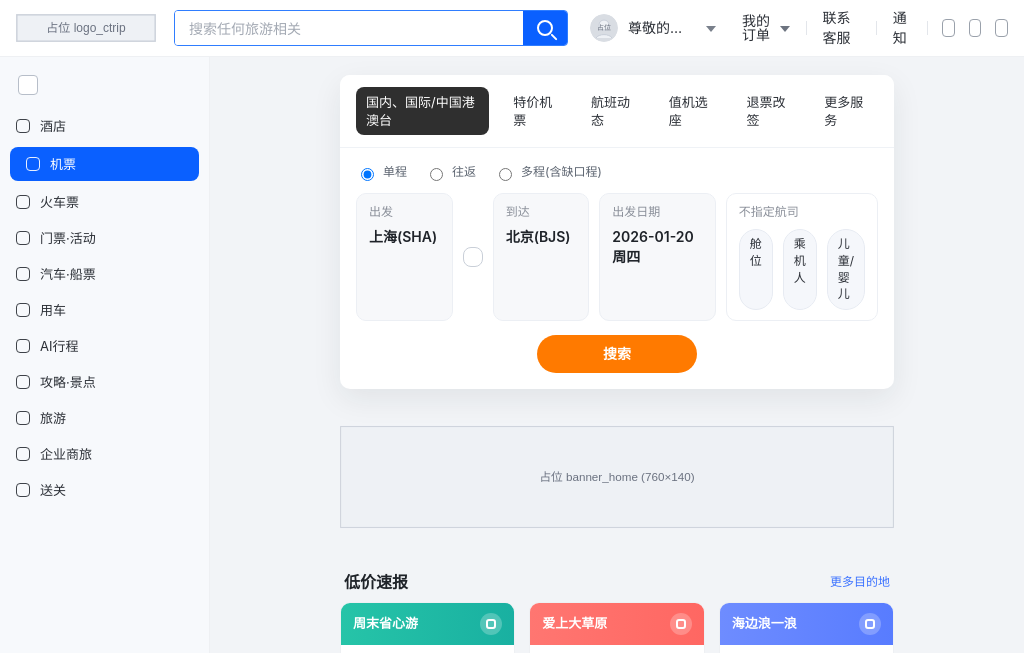
Scenario: 订单管理 - 场景用例 › 导航: 已登录时点击用户昵称/头像跳转到个人信息管理页
This screenshot has width=1024, height=653.
Click the link "测试用户" at (653, 28), box [584,12,722,44]
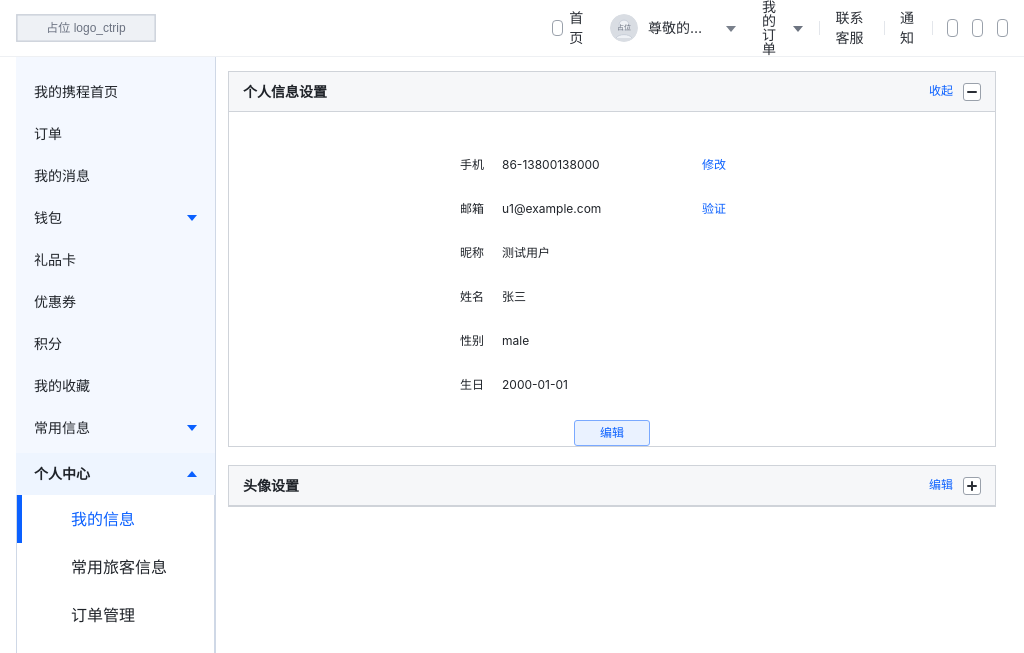
Expected: the text "个人信息设置" is shown, [243,82,327,101]
